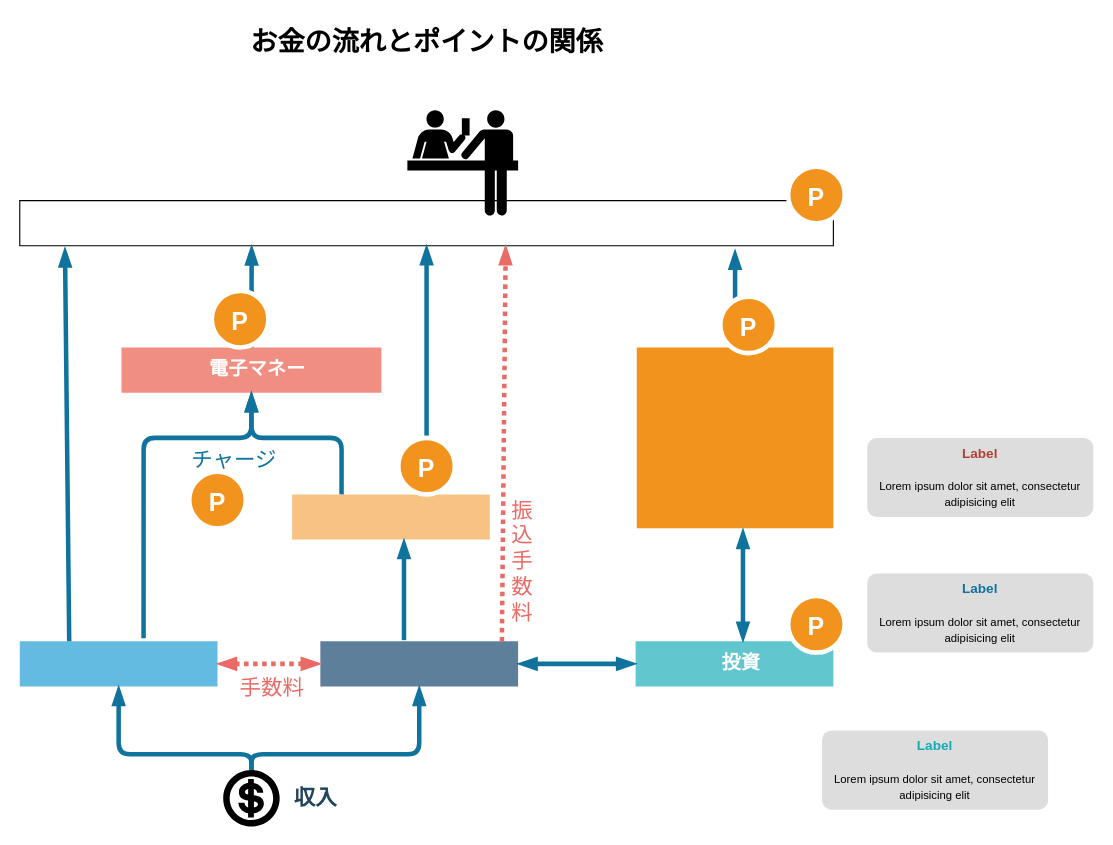
Image size: 1113x845. Some labels were removed from this diagram. Here are the shapes that lost their labels. From the top down, the centre of each, then its label:
At (x=426, y=222): "支払い".
At (x=734, y=437): "ポイント".
At (x=390, y=516): "クレジットカード".
At (x=118, y=663): "現金".
At (x=419, y=663): "銀行".
